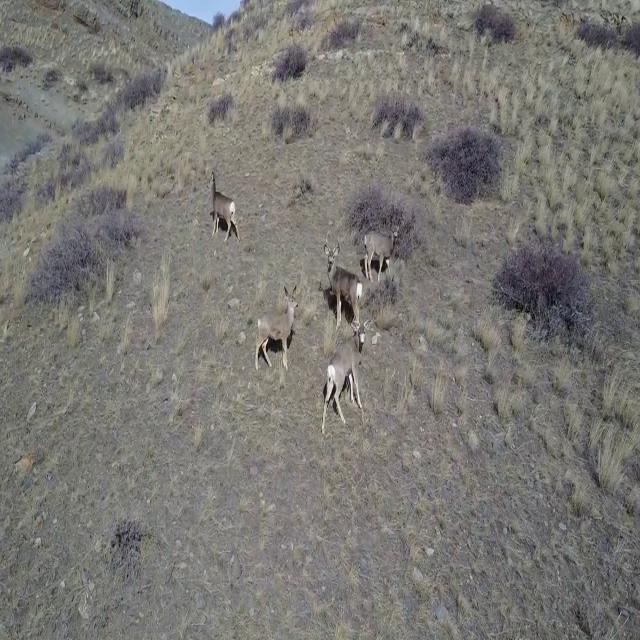Deer: (320, 320, 366, 437), (252, 282, 300, 374), (324, 236, 364, 337), (206, 166, 240, 243), (364, 220, 404, 284)
